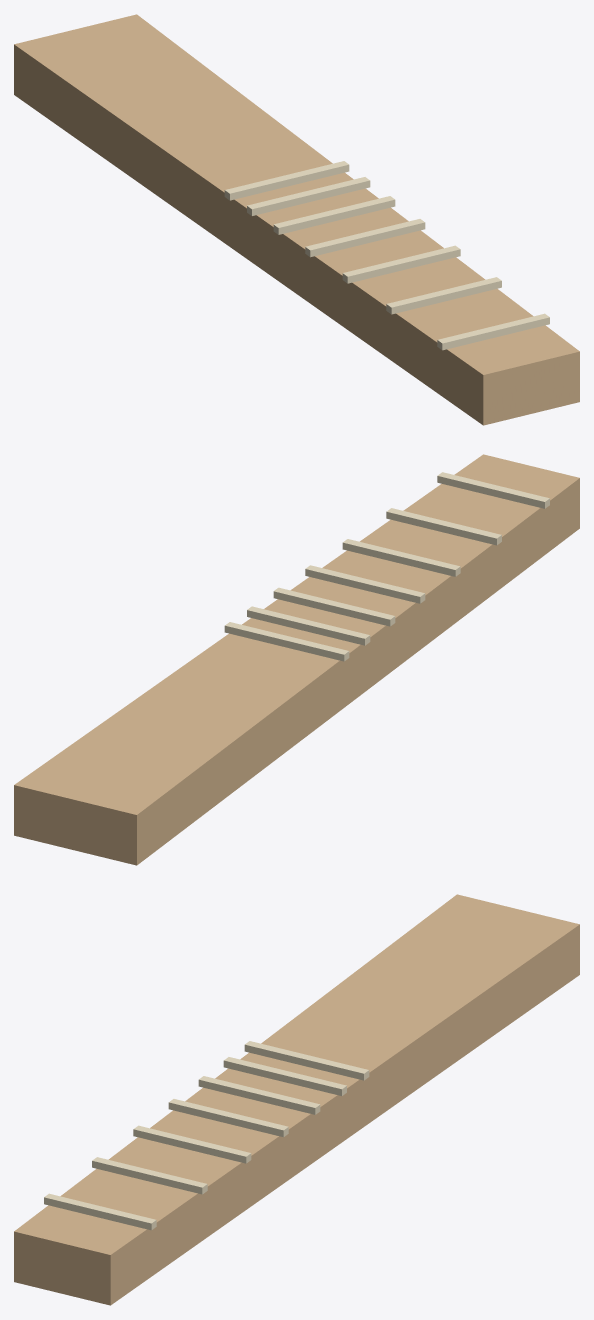
The model's file is prop-fretted-neck-blank.fbx.
3 views of the same model, one above another, from view 1: azimuth 30°, elevation 25°; view 2: azimuth 150°, elevation 25°; view 3: azimuth 330°, elevation 25° (orthographic).
Visible parts, largest first — view 1: prop-fretted-neck-blank; view 2: prop-fretted-neck-blank; view 3: prop-fretted-neck-blank.
Boxes of the visible parts, bbox=[...] form: prop-fretted-neck-blank: bbox=[14, 14, 579, 425]; prop-fretted-neck-blank: bbox=[14, 454, 579, 865]; prop-fretted-neck-blank: bbox=[14, 894, 579, 1305].
Bounding box in the file's own units: 5.6 × 2.5 × 36.
